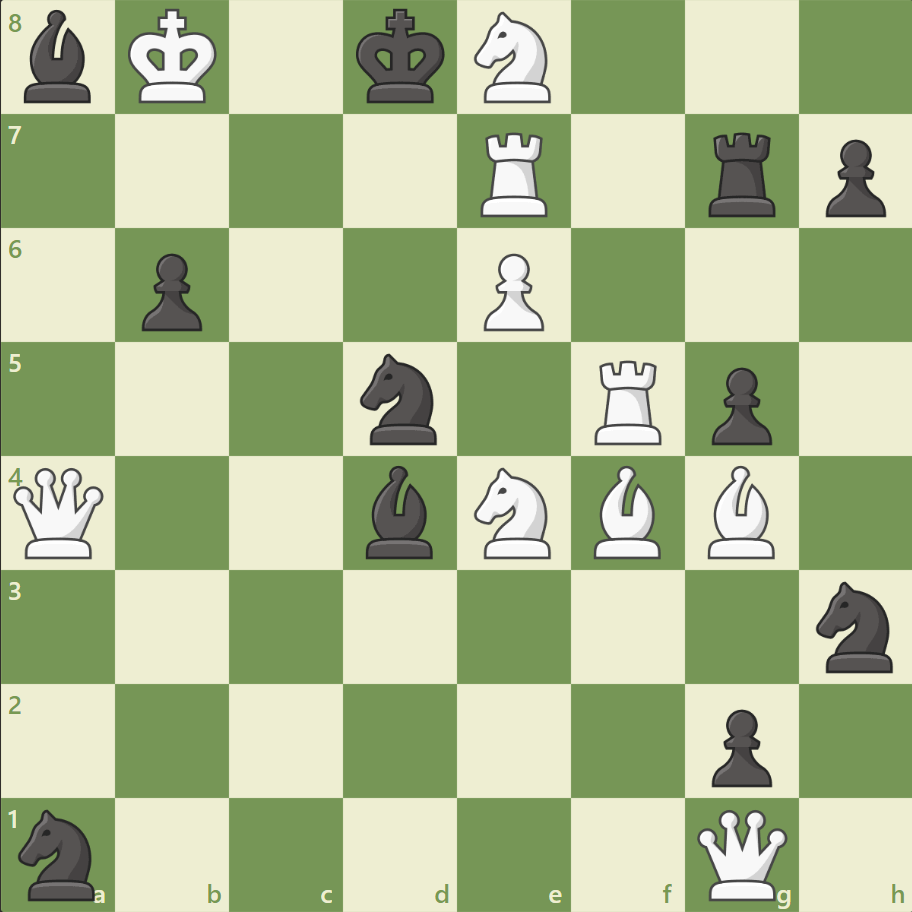B: (585, 460, 669, 563), (698, 460, 782, 563)
K: (124, 4, 224, 112)
N: (465, 7, 562, 110), (465, 461, 562, 564)
P: (474, 246, 549, 337)
Q: (10, 463, 109, 562), (691, 804, 790, 903)
R: (473, 125, 556, 222), (587, 352, 670, 449)
b: (17, 6, 101, 109), (358, 460, 442, 563)
k: (351, 4, 451, 112)
n: (351, 348, 449, 450), (806, 575, 903, 677), (11, 802, 108, 904)
p: (133, 246, 208, 337), (701, 359, 776, 450), (701, 700, 776, 791), (815, 132, 889, 223)
r: (700, 125, 783, 222)
